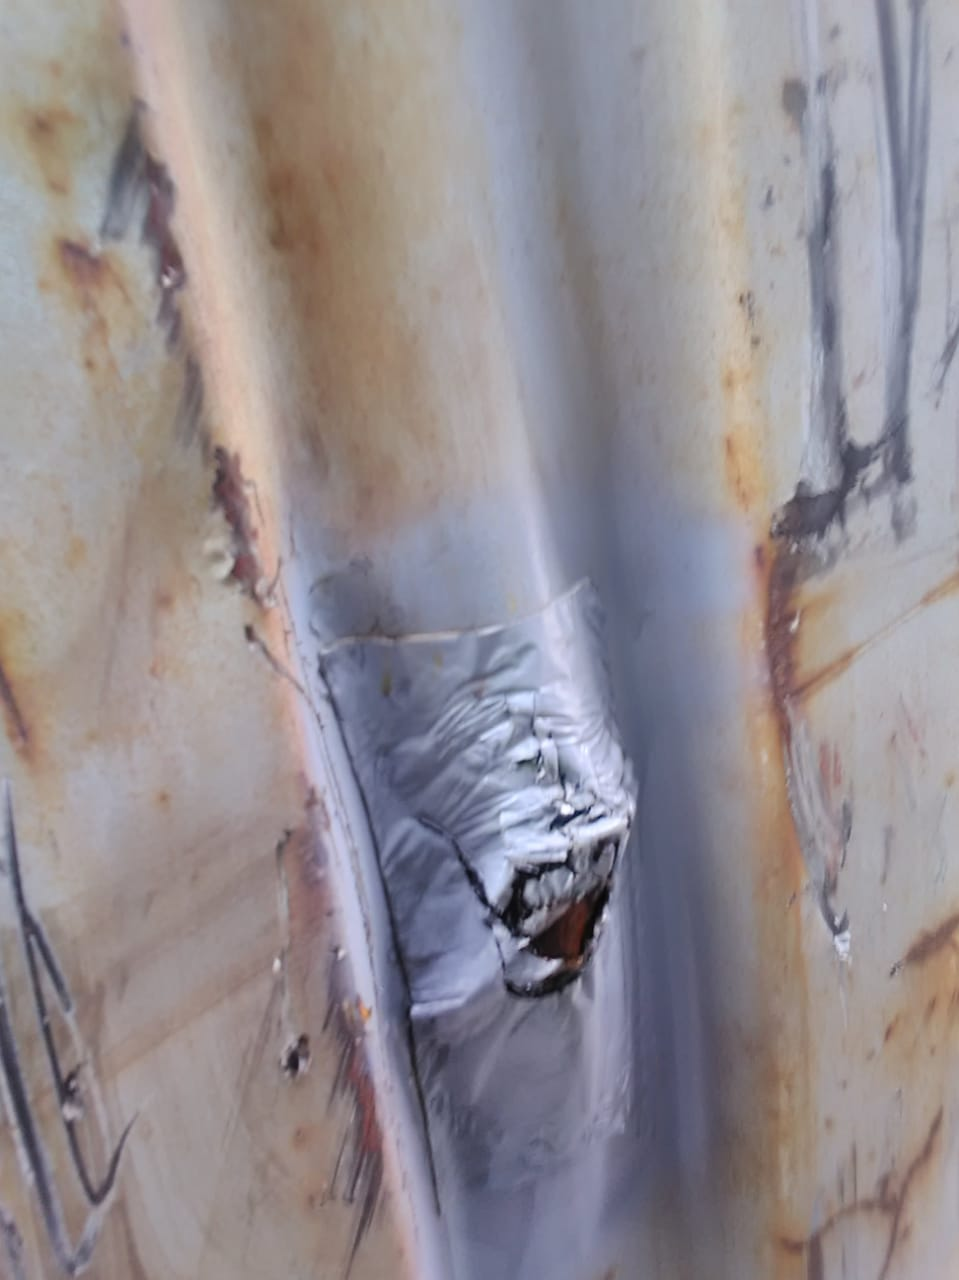severe: (251, 661, 773, 1238)
